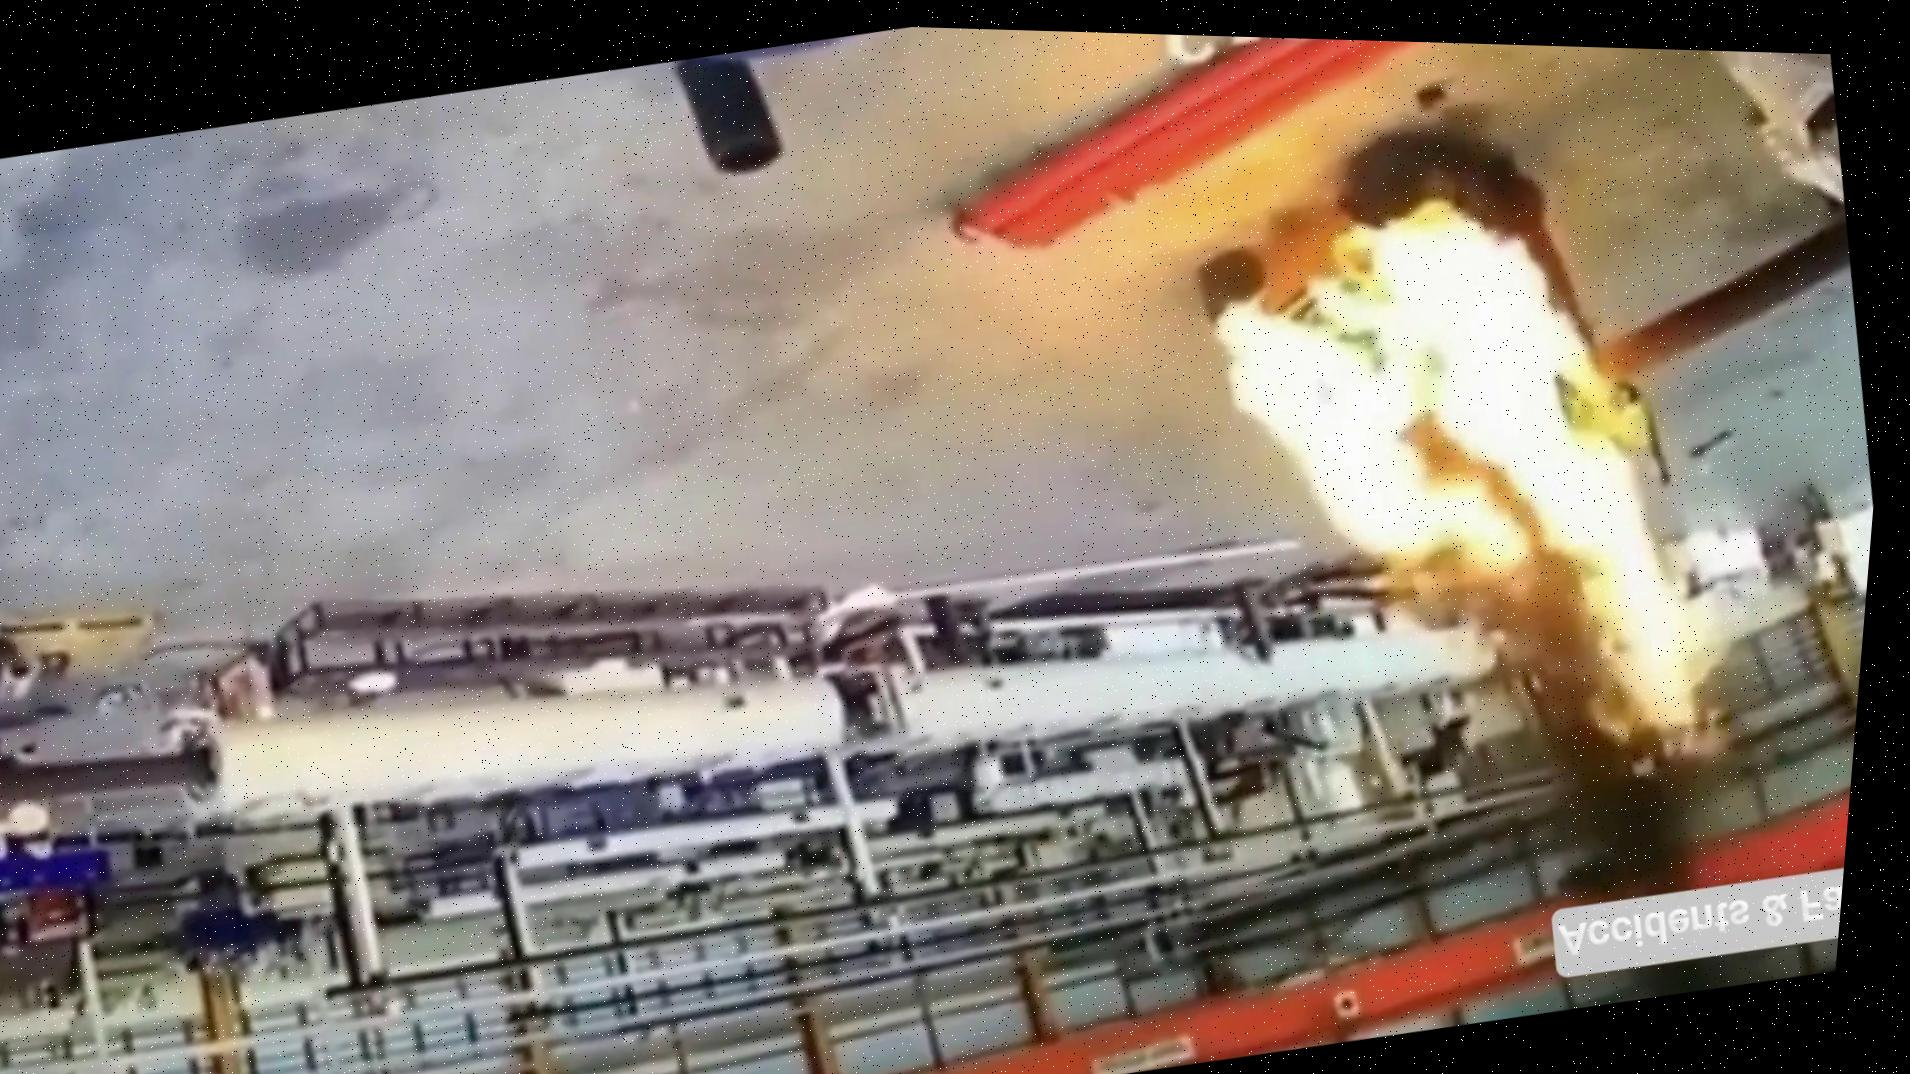fire: (1177, 174, 1733, 809)
